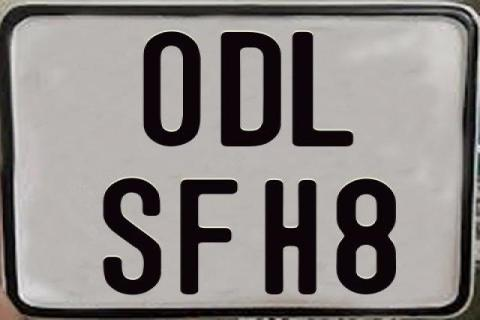0: (335, 177, 399, 293), (143, 29, 201, 148)
D: (219, 31, 285, 147)
F: (180, 180, 242, 300)
H: (264, 178, 320, 296)
L: (290, 32, 351, 146)
S: (101, 176, 165, 294)
